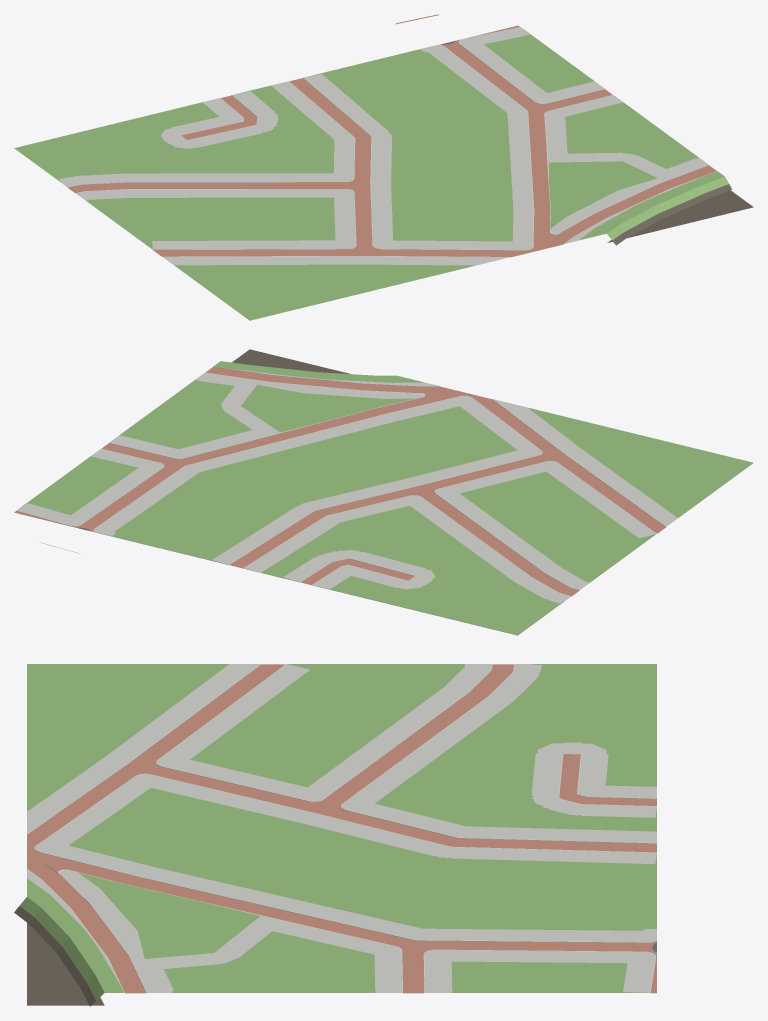
Rendered from ground_4_5.glb.
The picture shows the model from 3 angles, top to bottom: view 1: azimuth 30°, elevation 25°; view 2: azimuth 150°, elevation 25°; view 3: azimuth 270°, elevation 25°; orthographic projection. The views are drawn at different scales.
Parts seen in each view (by area): view 1: ground_4_5; view 2: ground_4_5; view 3: ground_4_5.
Boxes of the visible parts, <box> form: ground_4_5: <box>14,14,753,320</box>; ground_4_5: <box>14,349,753,635</box>; ground_4_5: <box>14,664,656,1006</box>.
Bounding box in the file's own units: 201 × 3.62 × 190.
